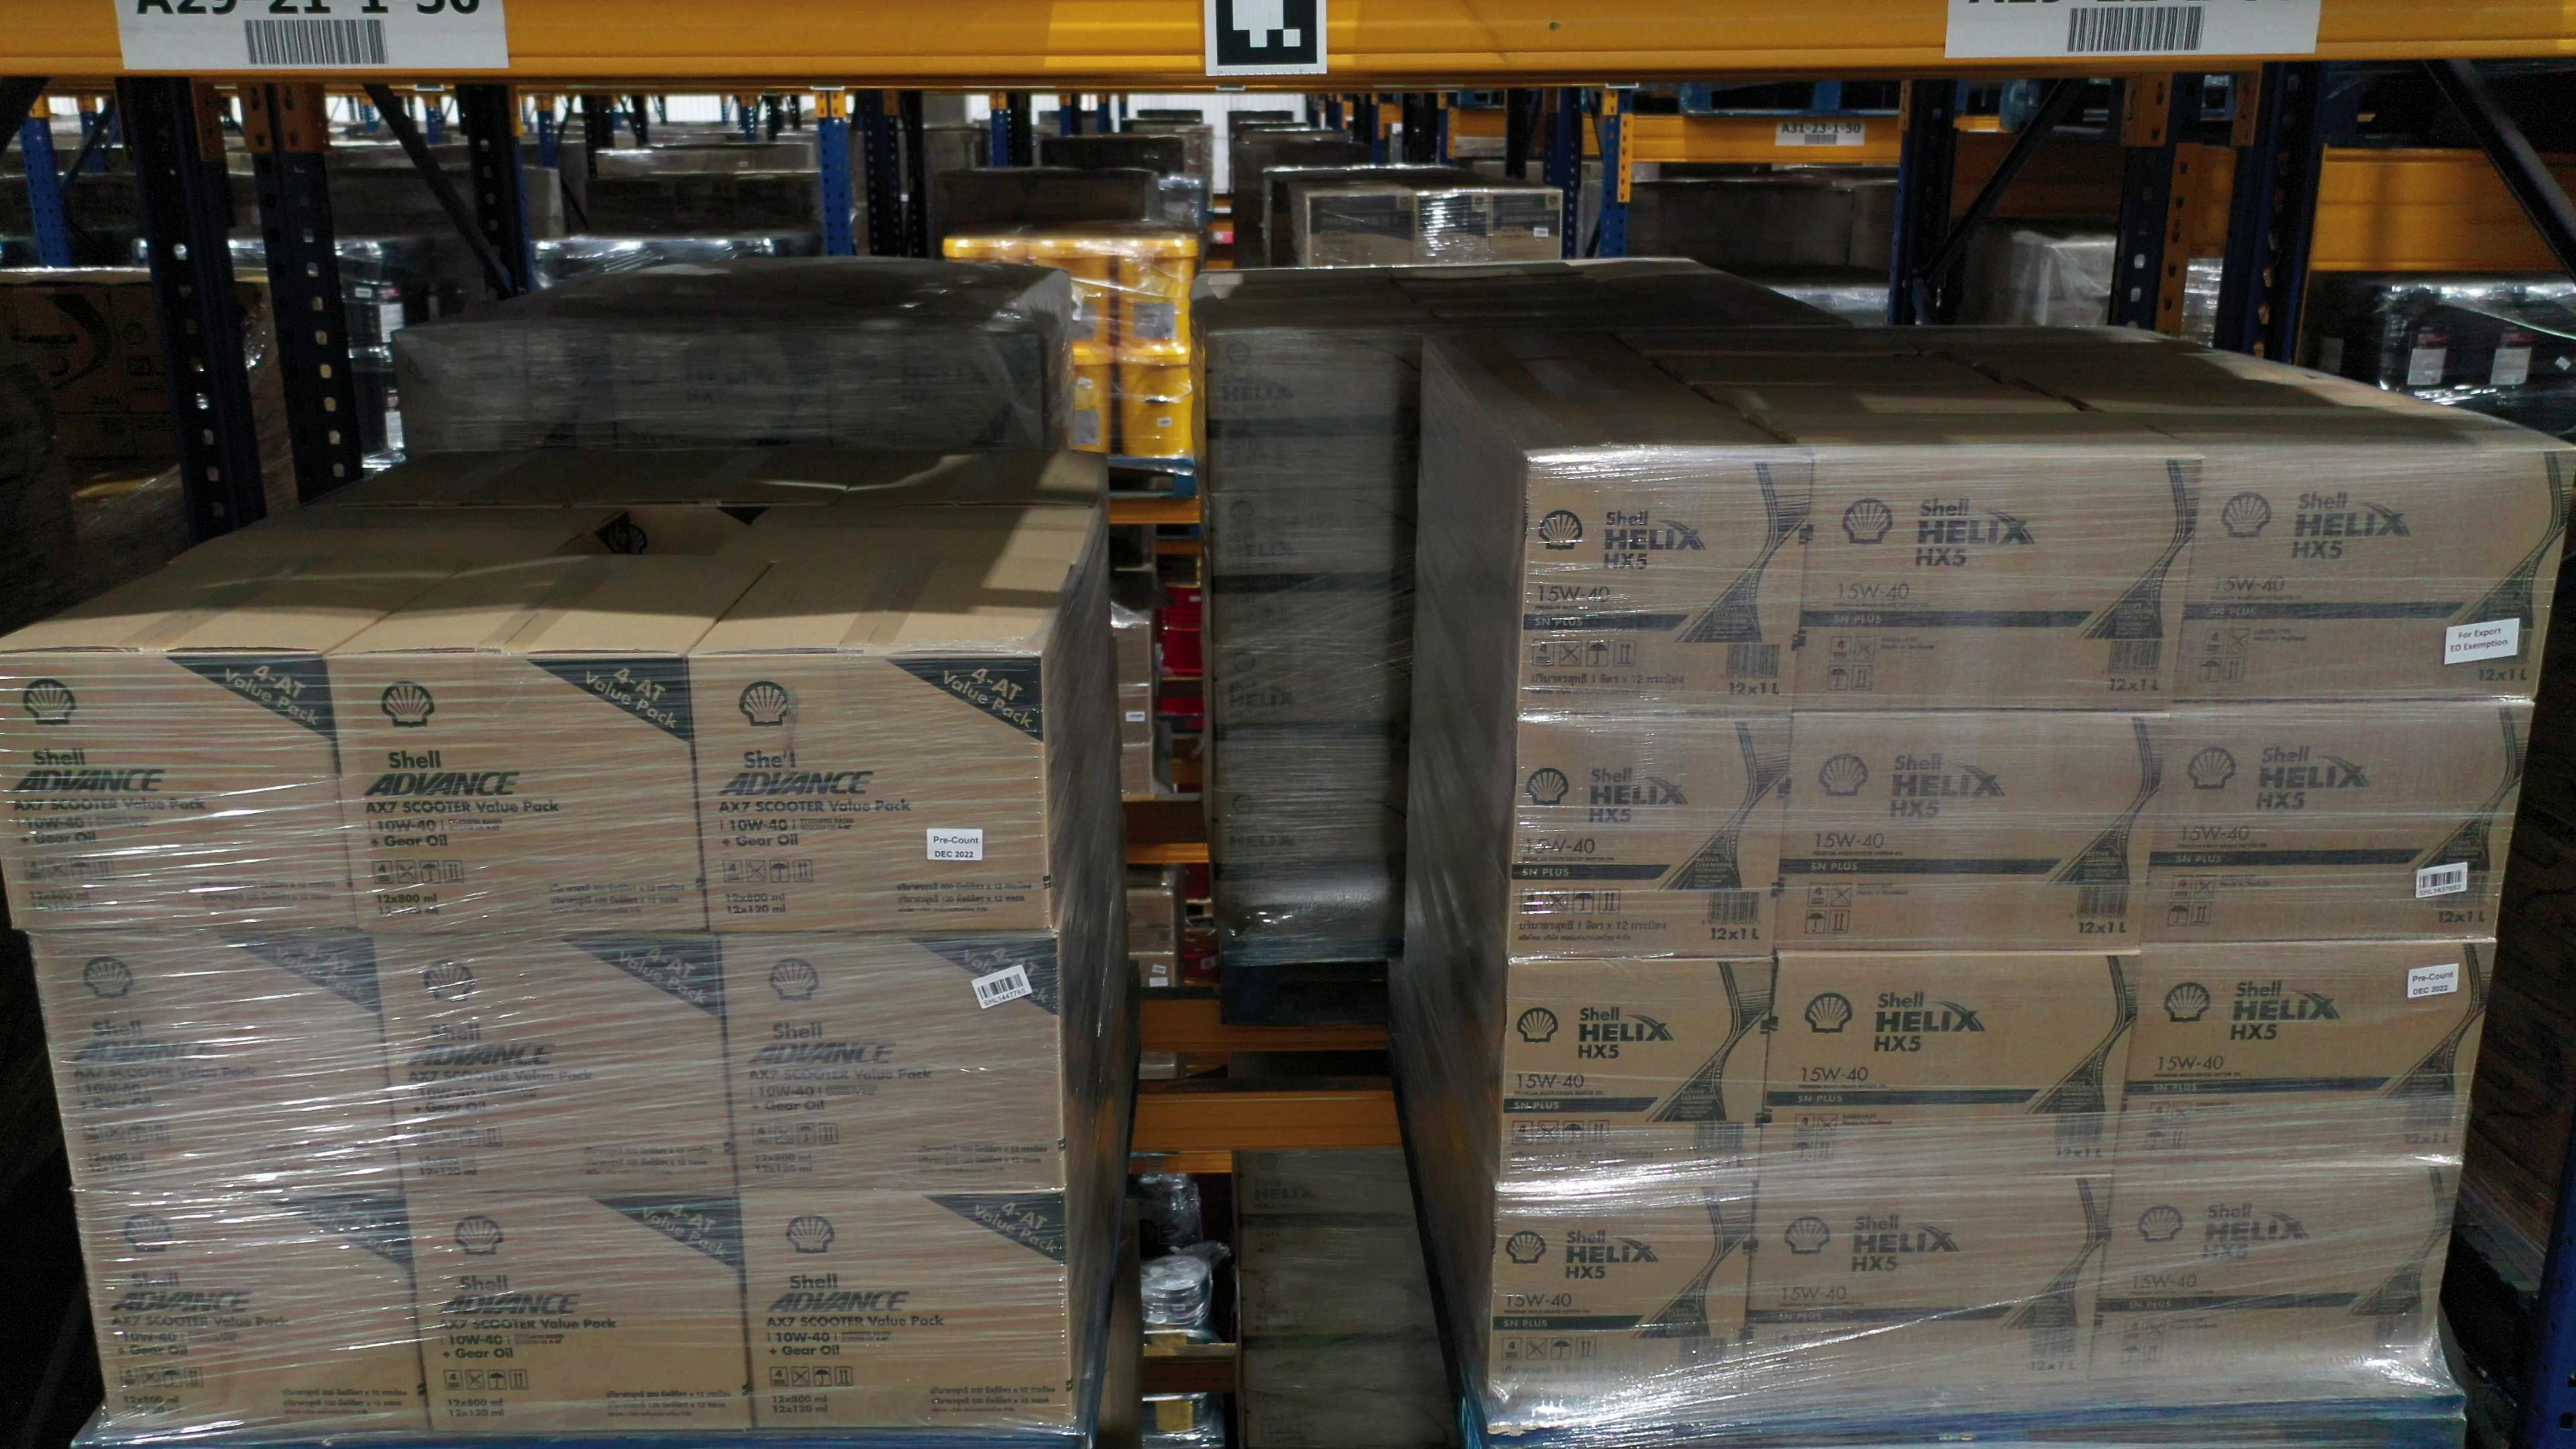-: (322, 653, 704, 932), (1796, 455, 2204, 713), (686, 653, 1051, 934), (28, 931, 405, 1198), (2176, 449, 2576, 701), (0, 651, 356, 931), (2137, 701, 2541, 947), (370, 932, 738, 1198), (1778, 711, 2169, 950), (718, 931, 1067, 1194), (1757, 952, 2143, 1187), (74, 1192, 430, 1435), (1746, 1175, 2118, 1407), (2120, 943, 2495, 1169), (402, 1196, 757, 1435), (740, 1187, 1076, 1435), (2093, 1164, 2459, 1382), (1523, 451, 1815, 718), (1509, 715, 1790, 957), (1500, 959, 1776, 1194), (1483, 1192, 1757, 1417)
box: (1201, 329, 1417, 497), (1210, 490, 1417, 646), (1214, 644, 1410, 789), (389, 331, 616, 455), (612, 331, 833, 449), (1219, 787, 1405, 927), (833, 333, 1046, 448)
